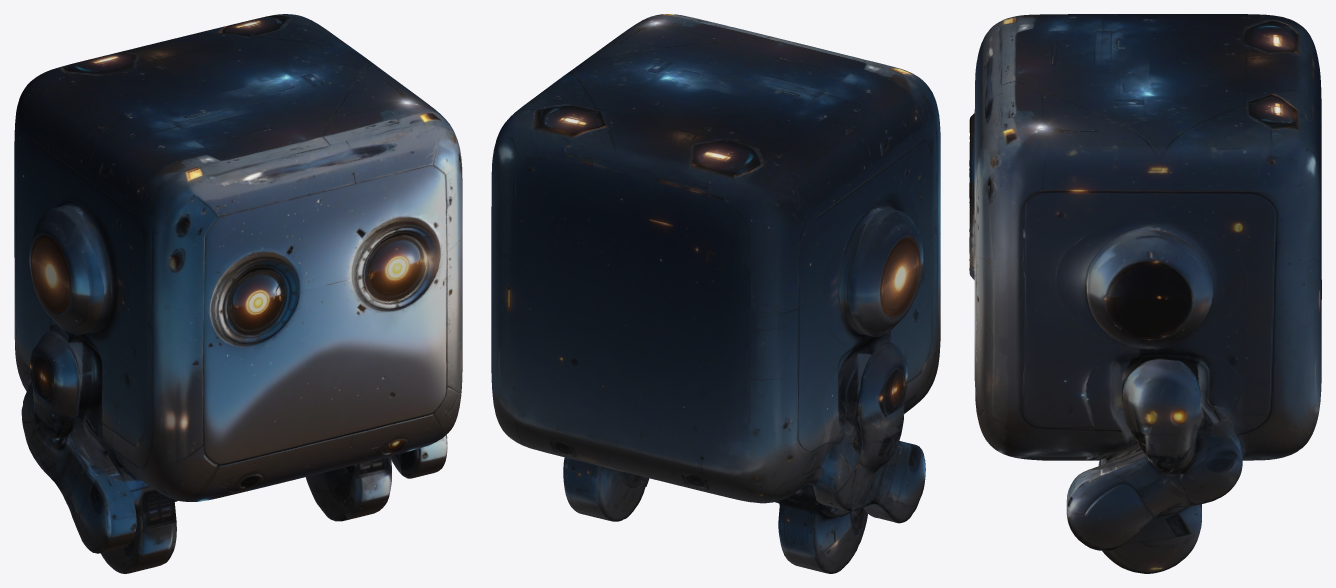
File: boot1.glb
3 views of the same model, side by side, from view 1: azimuth 30°, elevation 25°; view 2: azimuth 150°, elevation 25°; view 3: azimuth 270°, elevation 25° (orthographic).
Visible parts, largest first — view 1: Mesh_0_Material_0_0; view 2: Mesh_0_Material_0_0; view 3: Mesh_0_Material_0_0.
Part boxes in pixels (x1,y1,x2,y2): Mesh_0_Material_0_0: (14, 14, 462, 573); Mesh_0_Material_0_0: (491, 14, 940, 573); Mesh_0_Material_0_0: (969, 14, 1321, 573).
Bounding box in the file's own units: 1.73 × 2 × 1.44.
1 material, 1 textured.
